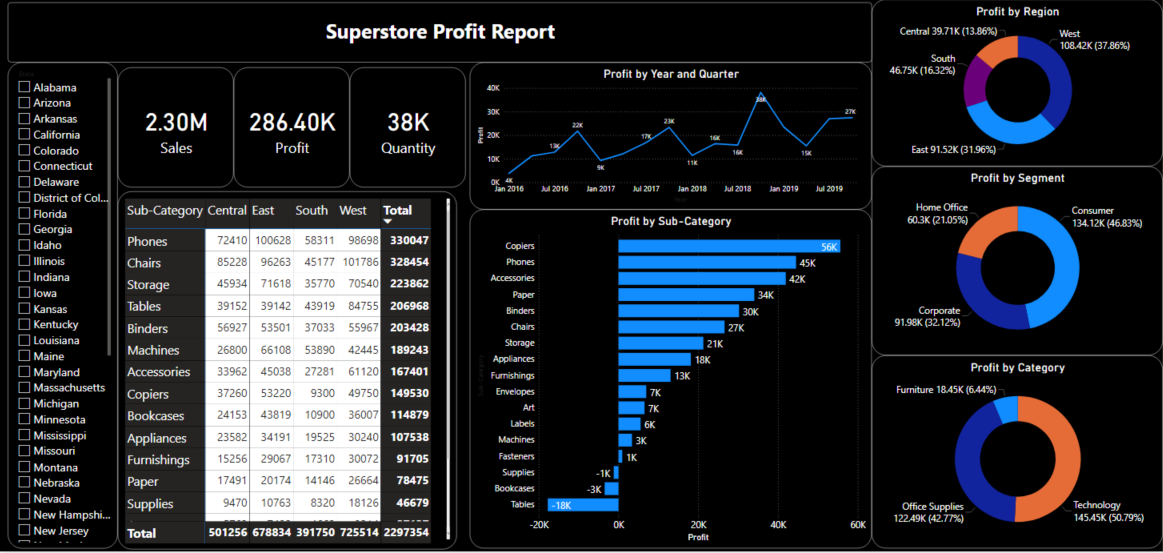

The page's visual inventory and layout, read from the dashboard file:
{"tool":"powerbi","page":{"name":"Report","canvas":[2500,1187],"ordinal":0},"visuals":[{"type":"textbox","box":[19.3,6.4,1855.7,128.9],"z":0},{"type":"donutChart","fields":{"Category":["Orders.Category"],"Y":["Sum(Orders.Profit)"]},"box":[1875,764.6,625,414.5],"z":1000},{"type":"donutChart","fields":{"Category":["Orders.Segment"],"Y":["Sum(Orders.Profit)"]},"box":[1875,358.7,625,405.9],"z":2000},{"type":"donutChart","fields":{"Category":["Orders.Region"],"Y":["Sum(Orders.Profit)"]},"box":[1875,0,625,358.7],"z":3000},{"type":"barChart","fields":{"Category":["Orders.Sub-Category"],"Y":["Sum(Orders.Profit)"]},"box":[1011.6,451,863.4,728.1],"z":4000},{"type":"lineChart","fields":{"Category":["Orders.Order Date.Variation.Date Hierarchy.Year","Orders.Order Date.Variation.Date Hierarchy.Quarter","Orders.Order Date.Variation.Date Hierarchy.Month","Orders.Order Date.Variation.Date Hierarchy.Day"],"Y":["Sum(Orders.Profit)"]},"box":[1011.6,135.3,863.4,315.7],"z":5000},{"type":"slicer","fields":{"Values":["Orders.State"]},"box":[19.3,135.3,236.3,1043.8],"z":6000},{"type":"pivotTable","fields":{"Rows":["Orders.Sub-Category"],"Columns":["Orders.Region"],"Values":["Sum(Orders.Sales)"]},"box":[255.6,412.4,728.1,768.9],"z":7000},{"type":"card","fields":{"Values":["Sum(Orders.Sales)"]},"box":[255.6,146,249.1,257.7],"z":8000},{"type":"card","fields":{"Values":["Sum(Orders.Profit)"]},"box":[504.7,146,249.1,257.7],"z":9000},{"type":"card","fields":{"Values":["Sum(Orders.Quantity)"]},"box":[753.9,146,249.1,257.7],"z":10000}]}

Visuals, with their boxes in screenshot pixels (x1, y1, x2, y2), scaled from the page's 2500x1187 canvas onto the 1163x553 screenshot:
textbox: 9:3:872:63
donutChart - Orders.Category x Sum(Orders.Profit): 872:356:1162:549
donutChart - Orders.Segment x Sum(Orders.Profit): 872:167:1162:356
donutChart - Orders.Region x Sum(Orders.Profit): 872:0:1162:167
barChart - Orders.Sub-Category x Sum(Orders.Profit): 471:210:872:549
lineChart - Orders.Order Date.Variation.Date Hierarchy.Year x Orders.Order Date.Variation.Date Hierarchy.Quarter: 471:63:872:210
slicer - Orders.State: 9:63:119:549
pivotTable - Orders.Sub-Category x Orders.Region: 119:192:458:550
card - Sum(Orders.Sales): 119:68:235:188
card - Sum(Orders.Profit): 235:68:351:188
card - Sum(Orders.Quantity): 351:68:467:188
